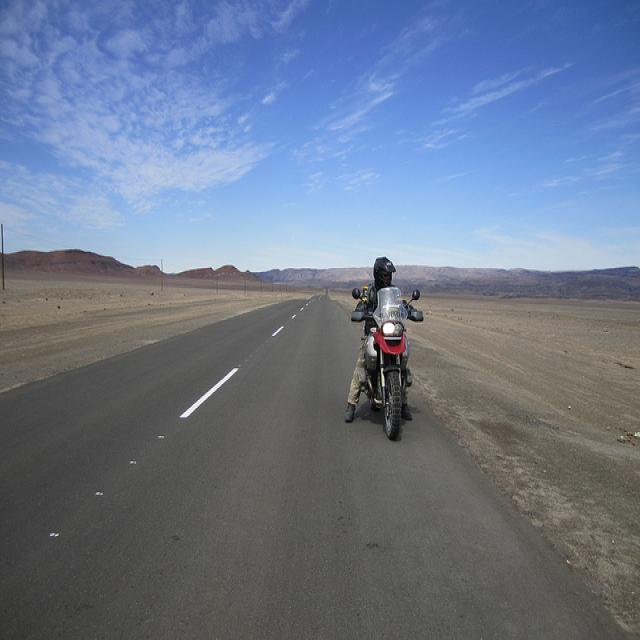motor: (350, 286, 425, 441)
